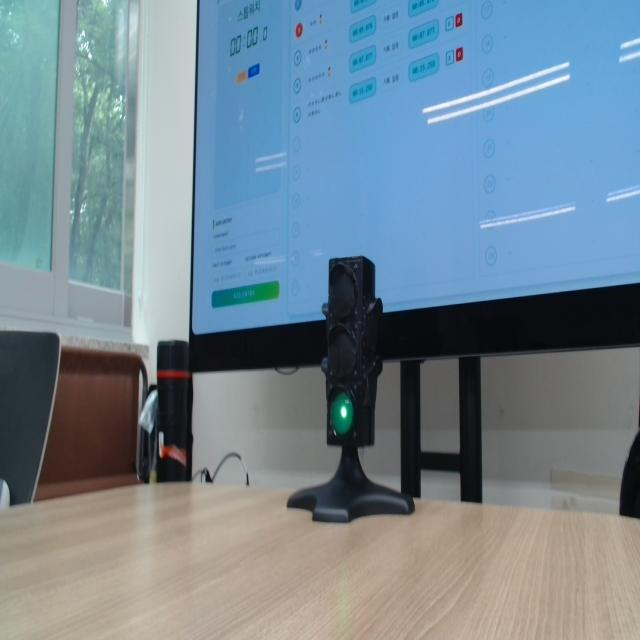green_light: (330, 392, 353, 437)
